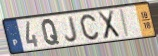4: (25, 20, 39, 48)
C: (79, 13, 101, 41)
I: (119, 8, 131, 38)
J: (64, 15, 79, 43)
Q: (40, 18, 61, 46)
X: (96, 9, 122, 41)
